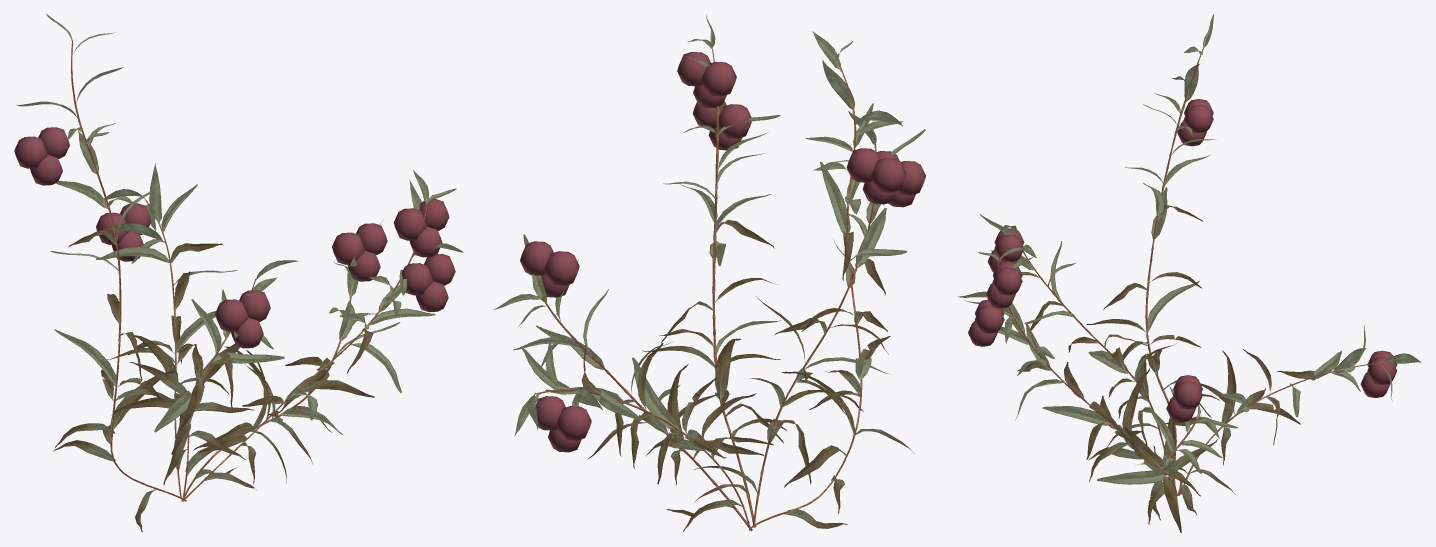
File: natural-berry-bush-clear.glb
The picture shows the model from 3 angles, left to right: view 1: azimuth 30°, elevation 25°; view 2: azimuth 150°, elevation 25°; view 3: azimuth 270°, elevation 25°; orthographic projection. The views are drawn at different scales.
Visible parts, largest first — view 1: natural-berry-bush-clear runtime mesh; view 2: natural-berry-bush-clear runtime mesh; view 3: natural-berry-bush-clear runtime mesh.
Part boxes in pixels (x1,y1,x2,y2): natural-berry-bush-clear runtime mesh: (14, 14, 463, 532); natural-berry-bush-clear runtime mesh: (493, 15, 925, 531); natural-berry-bush-clear runtime mesh: (957, 14, 1420, 532).
Bounding box in the file's own units: 0.8165 × 1.05 × 1.02.
2 materials, 1 textured.
